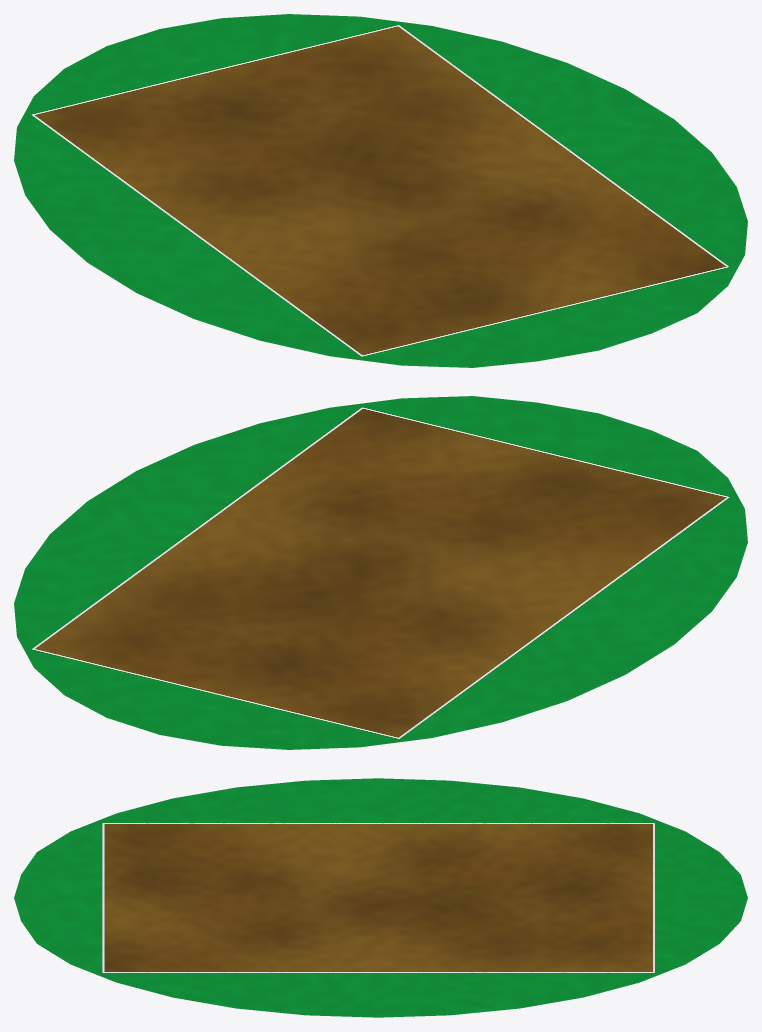
The model's file is TurtlePitch.gltf.
3 renders of one model, top to bottom at view 1: azimuth 30°, elevation 25°; view 2: azimuth 150°, elevation 25°; view 3: azimuth 270°, elevation 25°, orthographic. The views are drawn at different scales.
Visible parts, largest first — view 1: Sphere.001; view 2: Sphere.001; view 3: Sphere.001.
Boxes of the visible parts, x1,y1,x2,y2 form: Sphere.001: (14,14,747,367); Sphere.001: (14,396,747,749); Sphere.001: (14,778,747,1017).
Bounding box in the file's own units: 6.04 × 0 × 7.82.
Materials: 1 (1 with a texture image).
